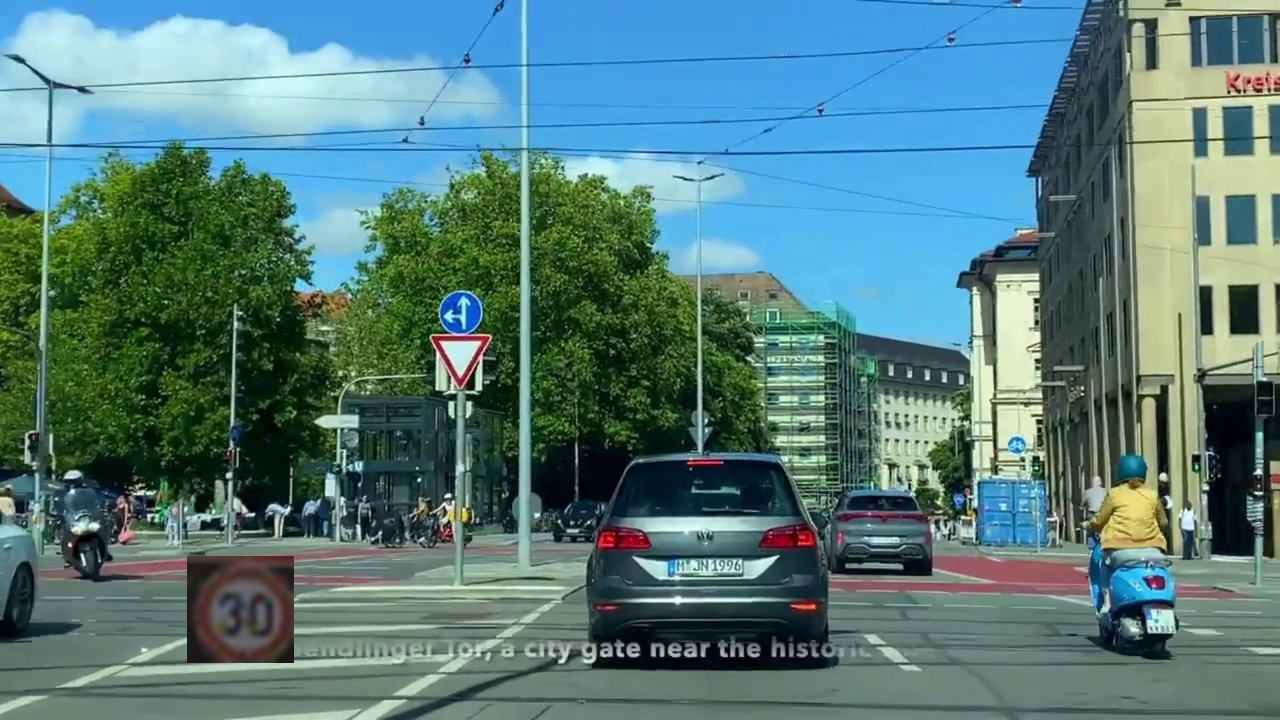Speed 30: (187, 556, 294, 663)
